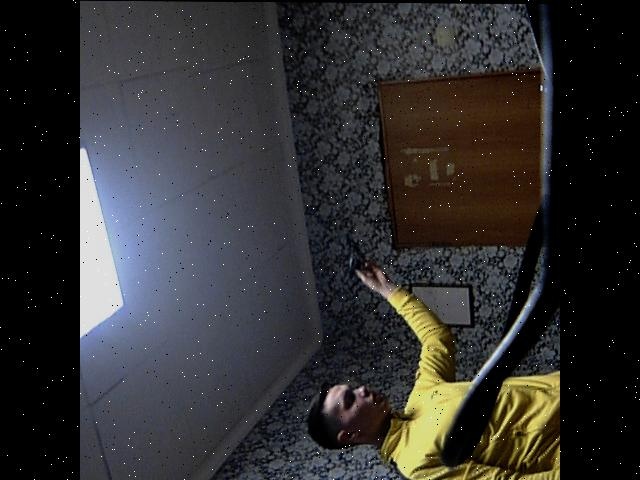drone: (333, 228, 367, 288)
